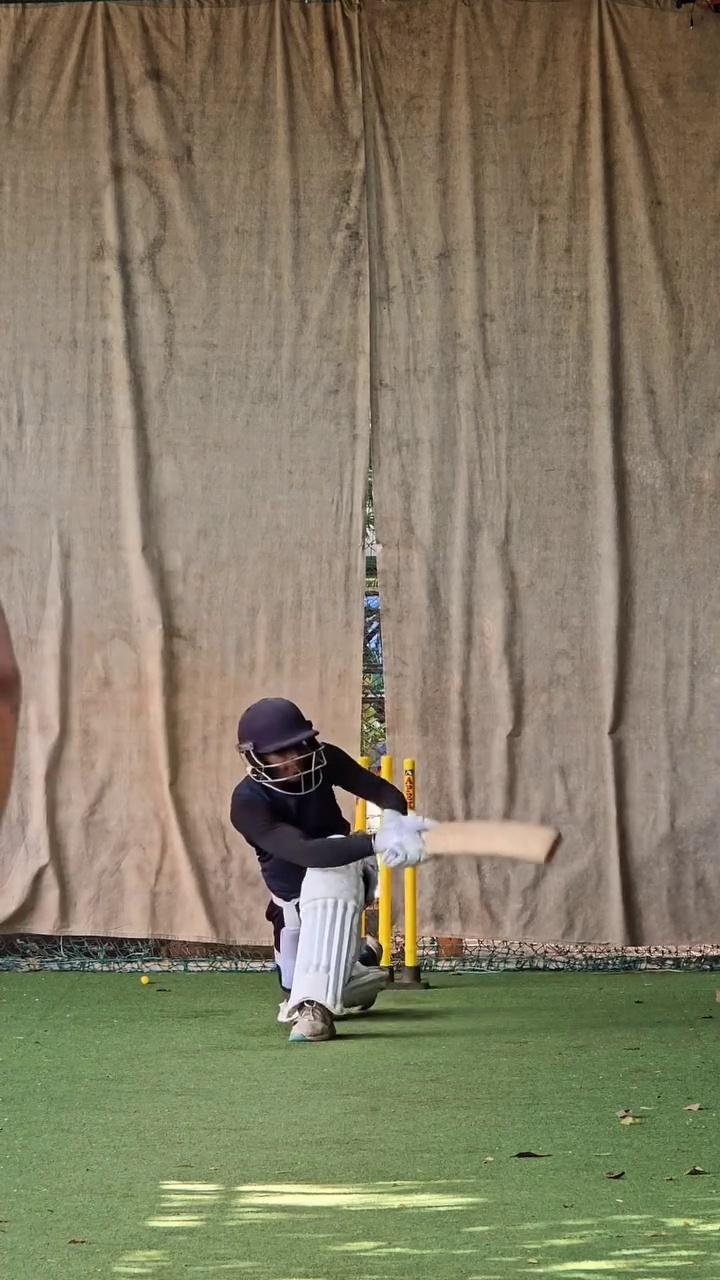bat: (425, 821, 569, 865)
